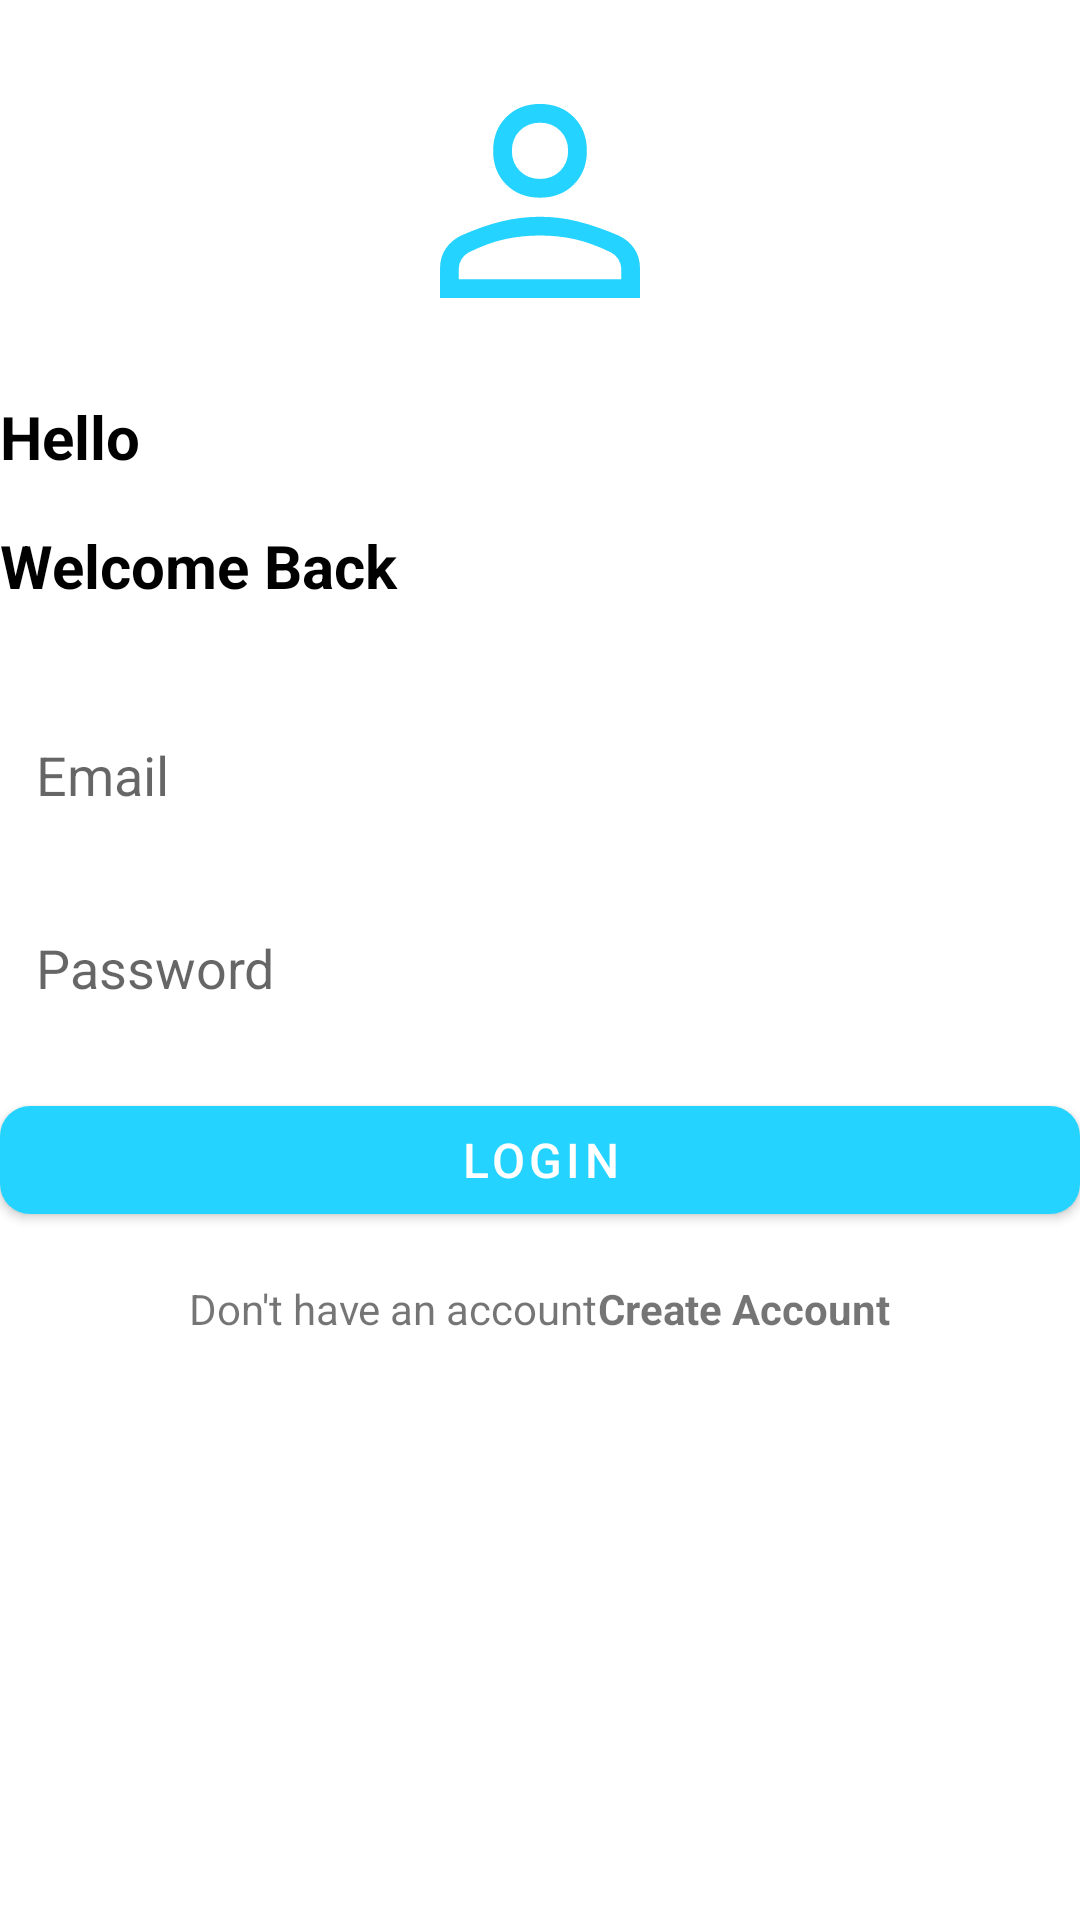

Screen size 1080*1920. Icon name, then its box in pixels as box=[x1, y1, x2, y2]:
Add user image: box=[440, 104, 640, 298]
